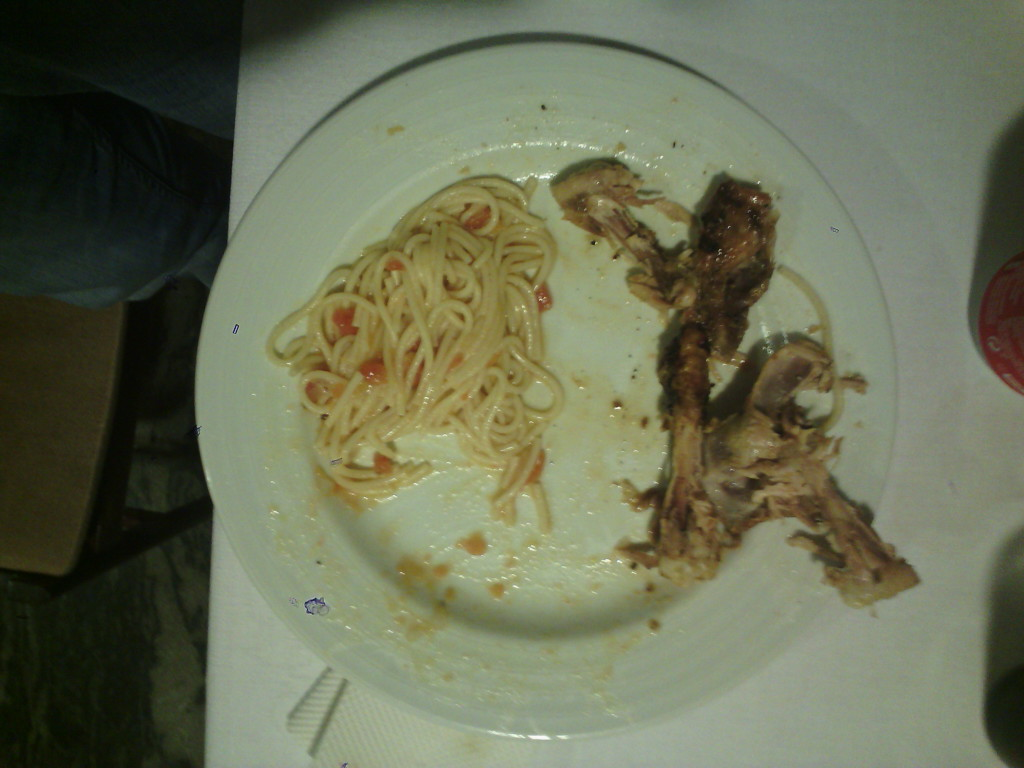41-60: (197, 41, 893, 737)
